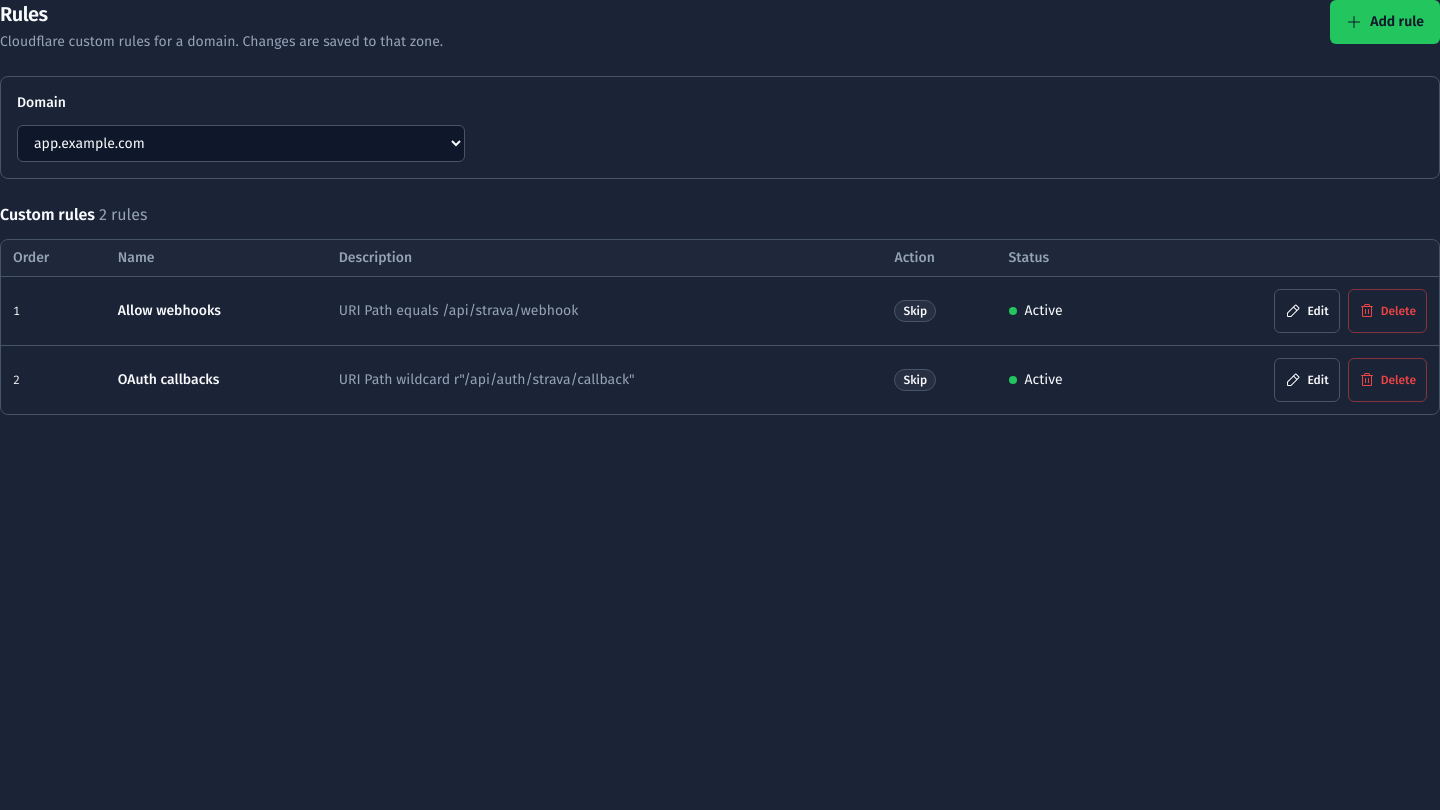
Test: RulesPage › requires a skip component and confirms delete
Expected: the text "Allow webhooks" is shown, [106,276,327,346]
Click the button "Edit" in the row of "Allow webhooks". click: (1307,311)
box: [1274,289,1340,333]
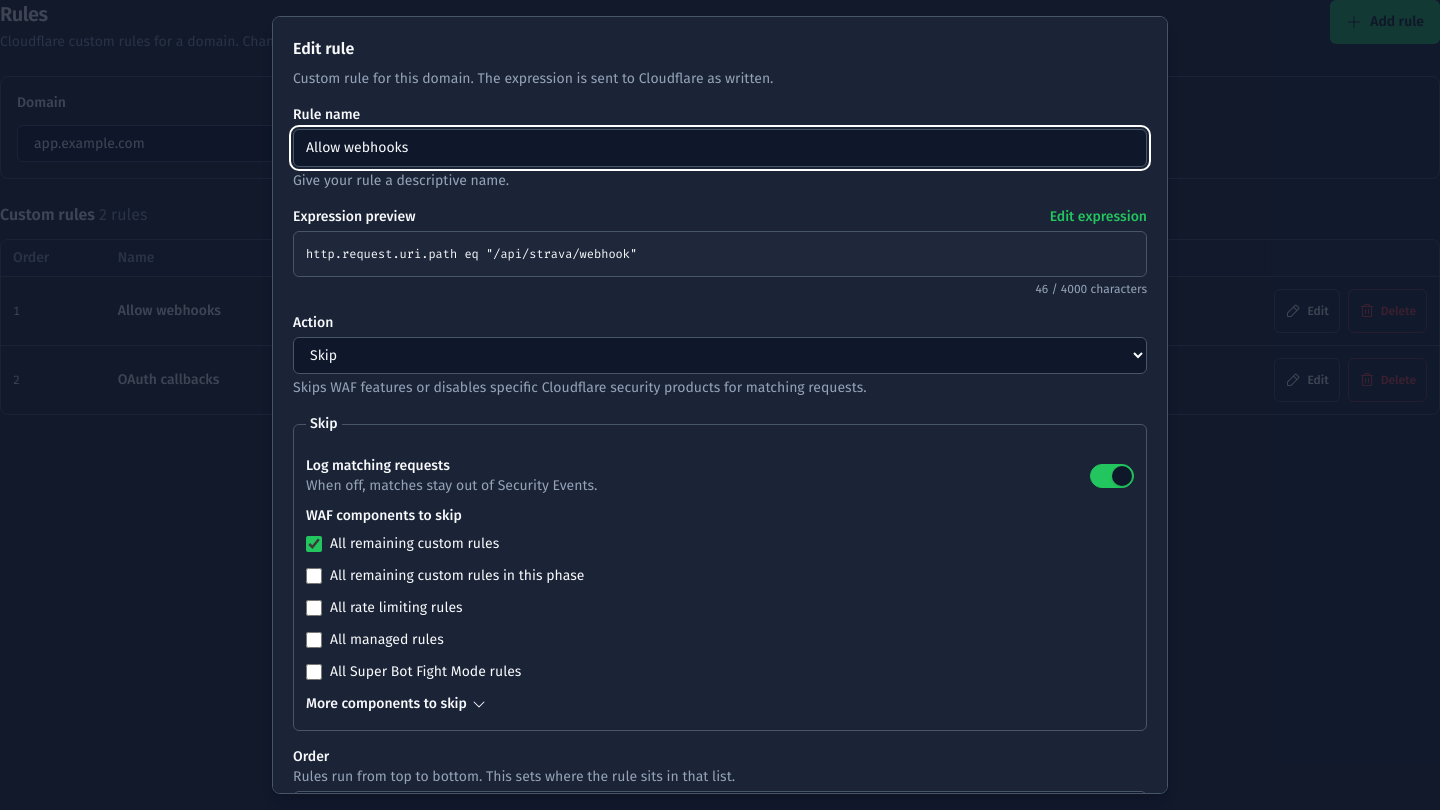
Click the checkbox labelled "All remaining custom rules". click: (314,544)
box: [306,536,322,552]
(page scrolled)
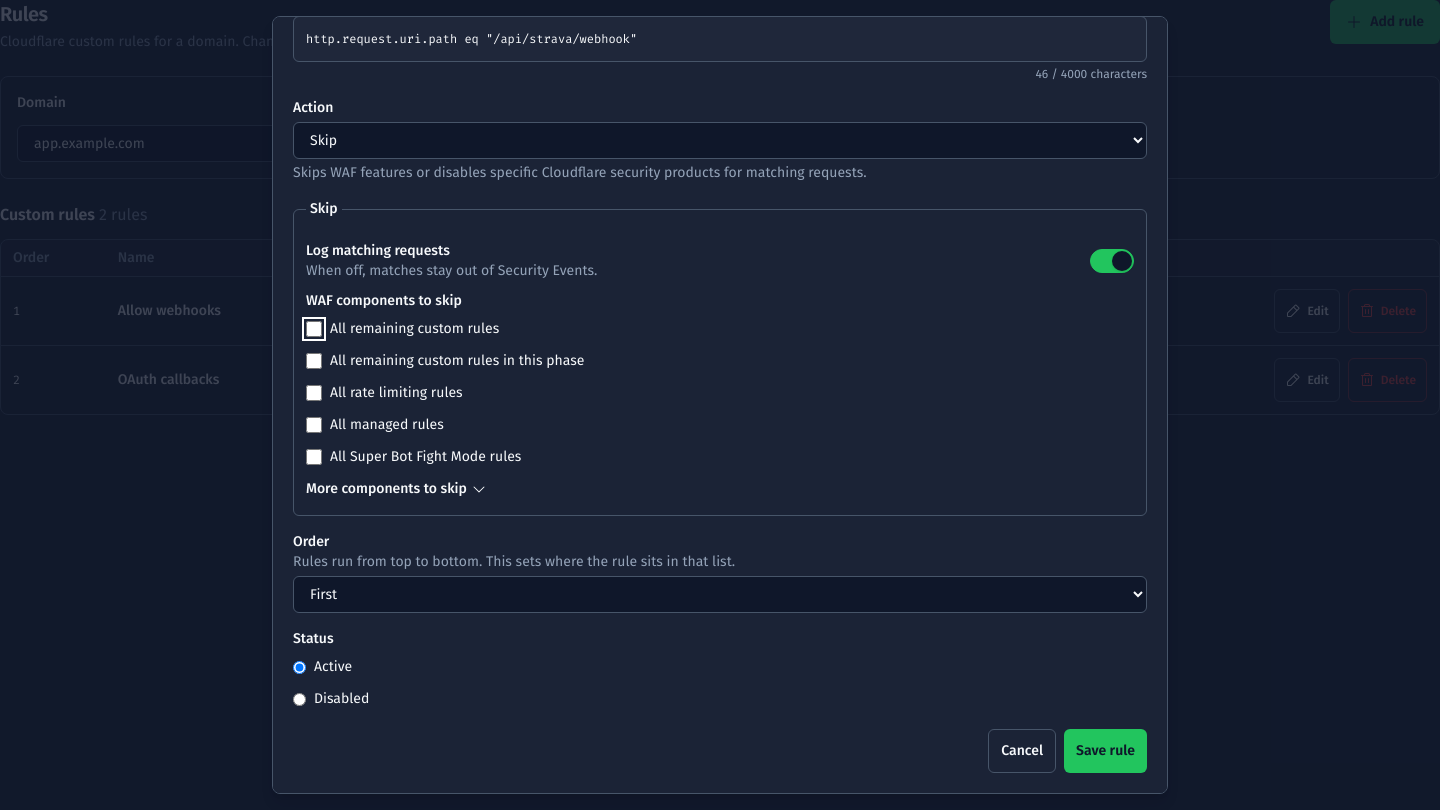
Click the button "Save rule". click: (1106,751)
box: [1064,729,1147,773]
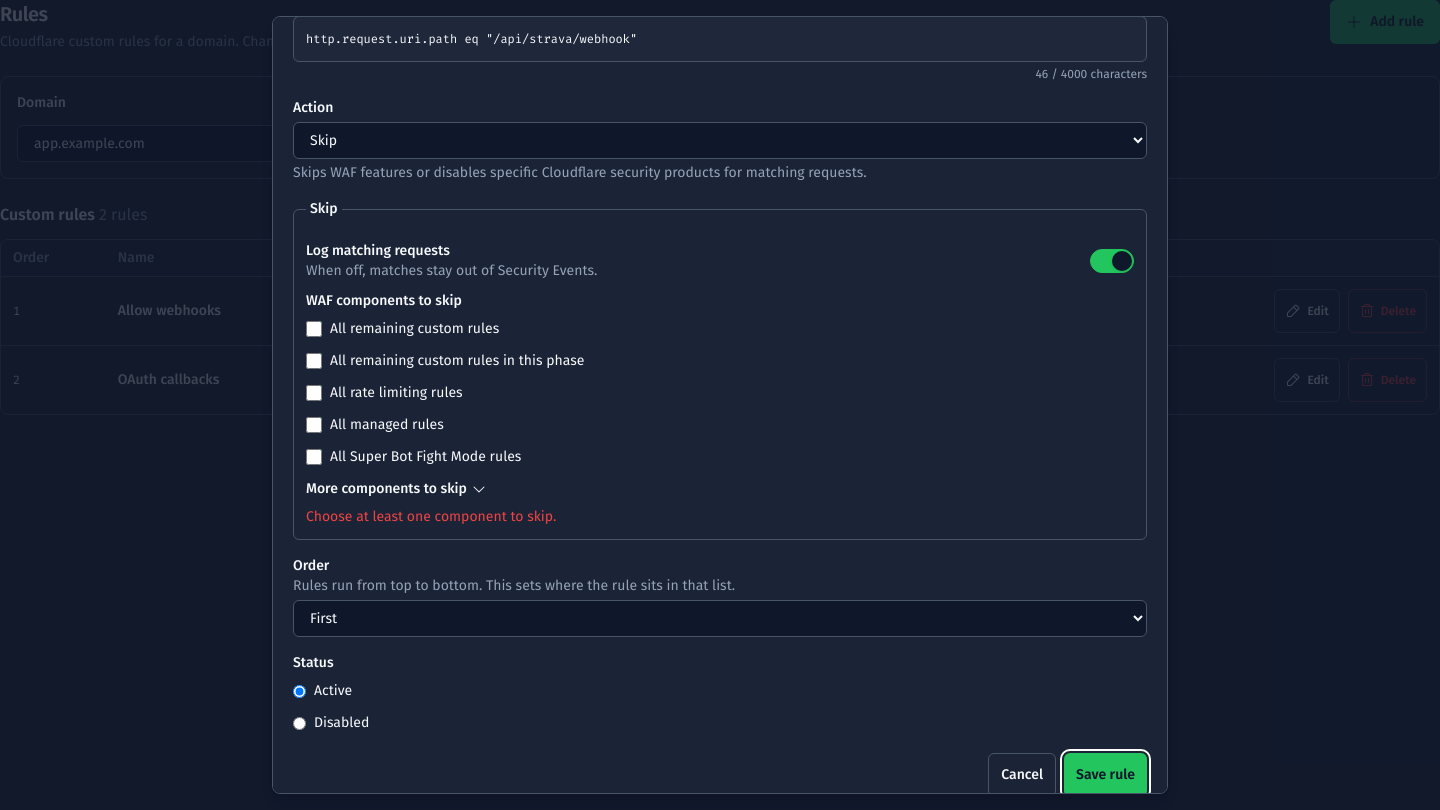
Expected: the text "Choose at least one component to skip." is shown, [306,508,556,525]
Click the button "Cancel". click: (1022,775)
box: [988,753,1056,797]
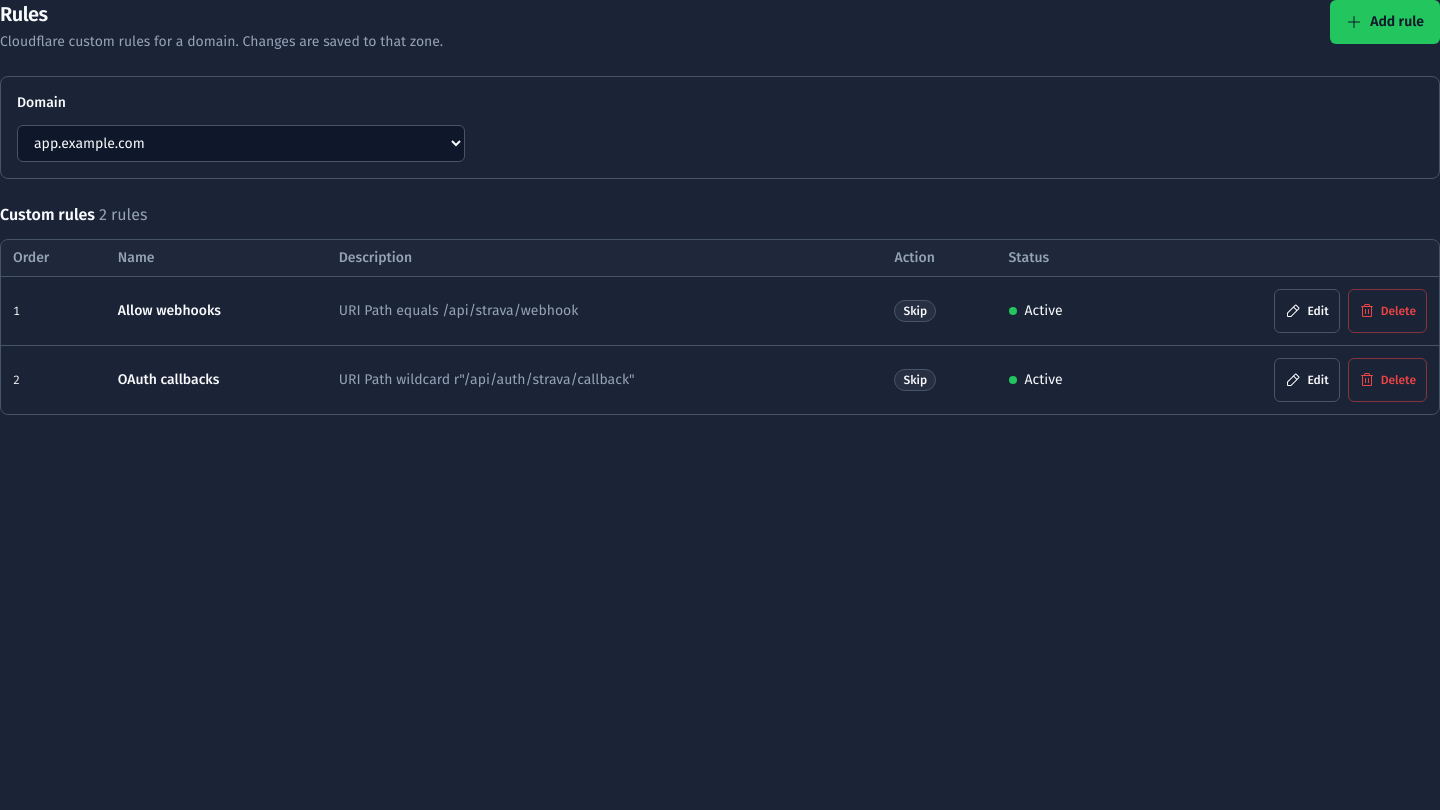
Click the button with aria-label "Delete Allow webhooks". click: (1387,311)
box: [1348,289,1427,333]
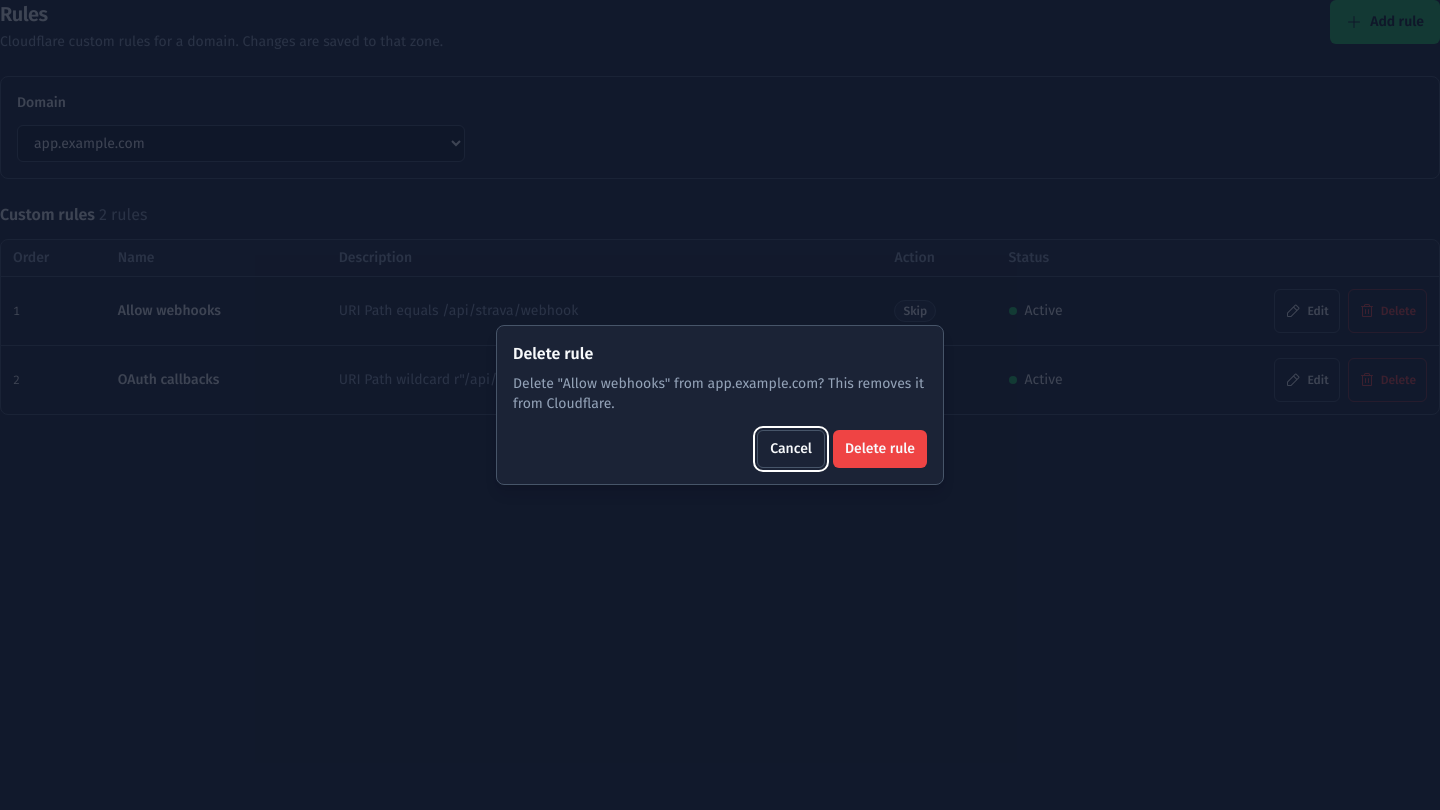
Click the button "Delete rule". click: (880,449)
box: [833,430,927,468]
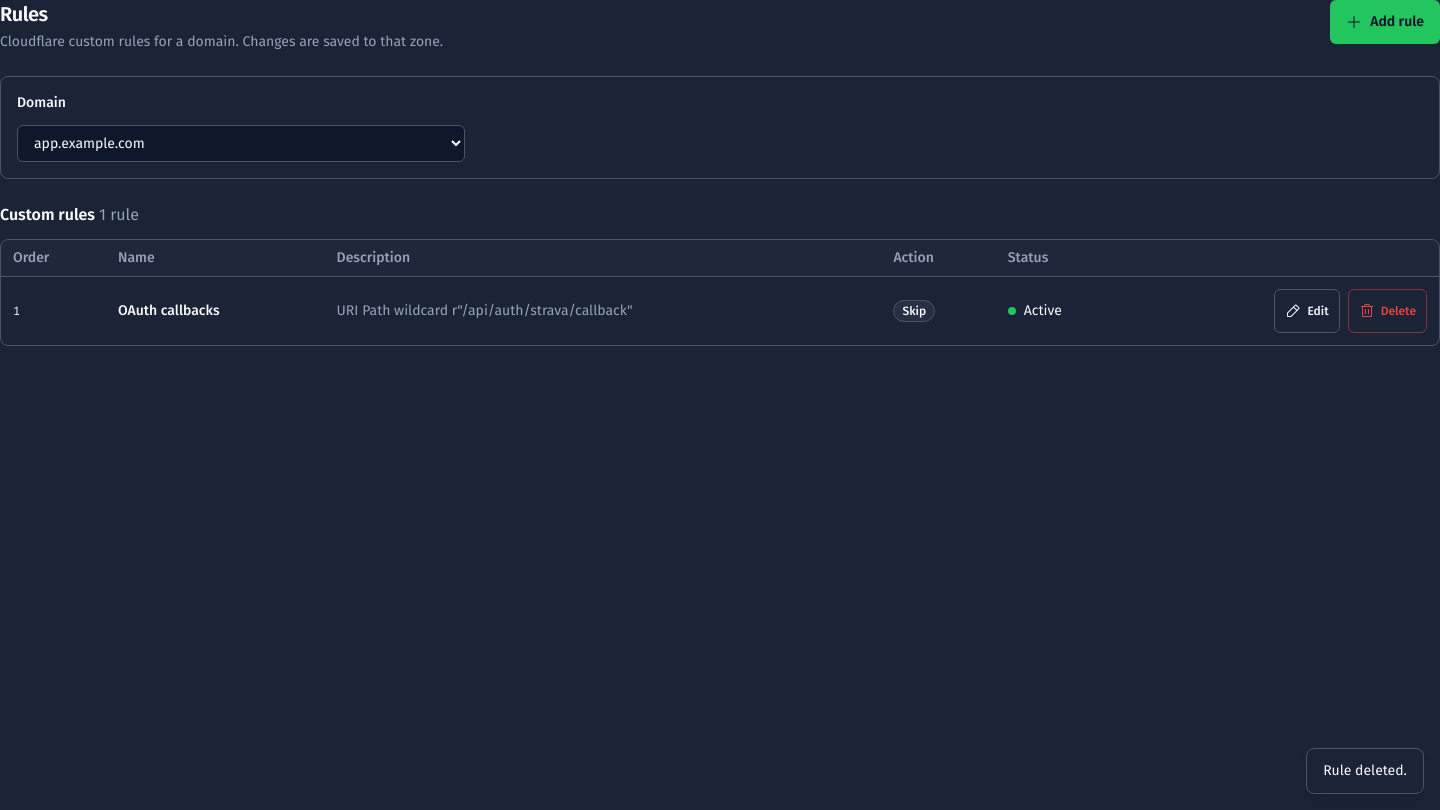
Expected: the text "OAuth callbacks" is shown, [106,276,325,345]
Expected: the text "Allow webhooks" is gone
